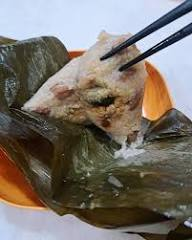zongzi: (22, 32, 146, 142)
